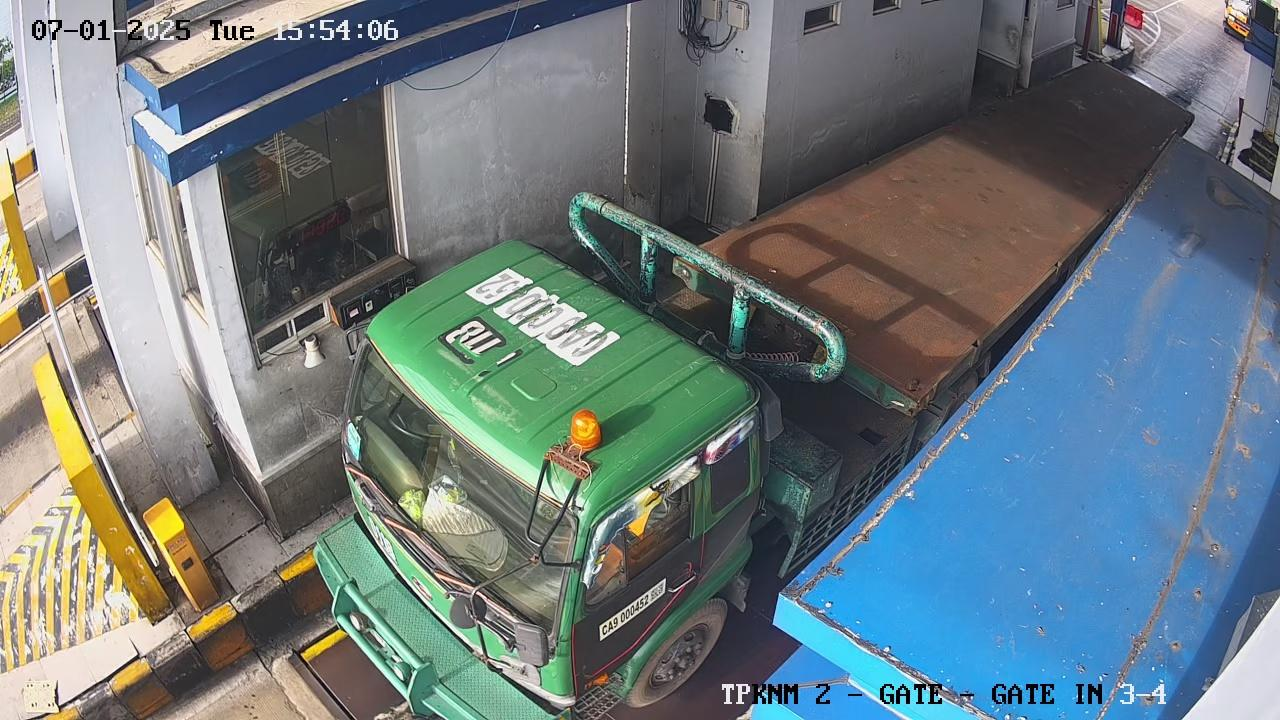truck_id: (432, 263, 640, 402), (592, 577, 673, 641)
